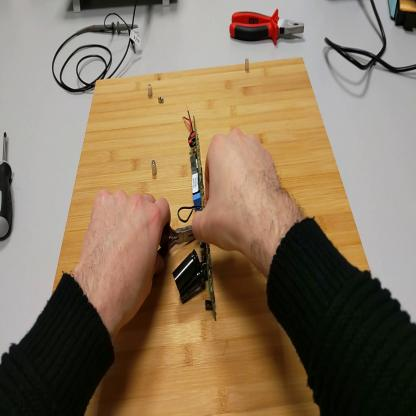hand: (78, 187, 172, 330), (189, 130, 282, 261)
high voltage board: (173, 106, 217, 323)
oscilloscope: (73, 2, 178, 13)
oscilloscope probe tip: (84, 19, 142, 42)
pliers: (230, 6, 306, 46), (158, 226, 196, 262)
screwdriver-: (2, 129, 16, 241)
welder base: (387, 3, 416, 34)
working area: (57, 60, 383, 415)
